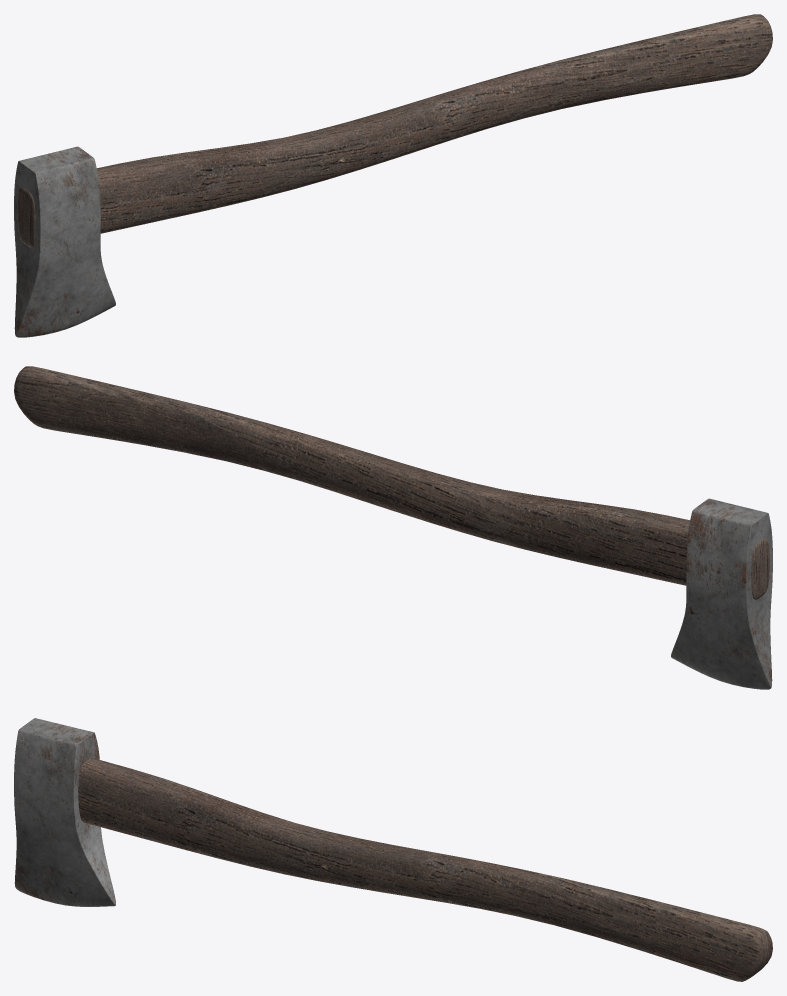
File: axe.glb
The picture shows the model from 3 angles, top to bottom: view 1: azimuth 30°, elevation 25°; view 2: azimuth 150°, elevation 25°; view 3: azimuth 330°, elevation 25°; orthographic projection.
Visible parts, largest first — view 1: Hp.002_4, Hp.001_3; view 2: Hp.002_4, Hp.001_3; view 3: Hp.002_4, Hp.001_3.
Part boxes in pixels (bbox=[...]): Hp.002_4: bbox=[17, 14, 772, 247]; Hp.001_3: bbox=[14, 146, 115, 337]; Hp.002_4: bbox=[14, 366, 769, 599]; Hp.001_3: bbox=[671, 498, 772, 689]; Hp.002_4: bbox=[78, 758, 772, 981]; Hp.001_3: bbox=[14, 718, 115, 906].
Bounding box in the file's own units: 8.81 × 1.93 × 0.5415.
1 material, 1 textured.
